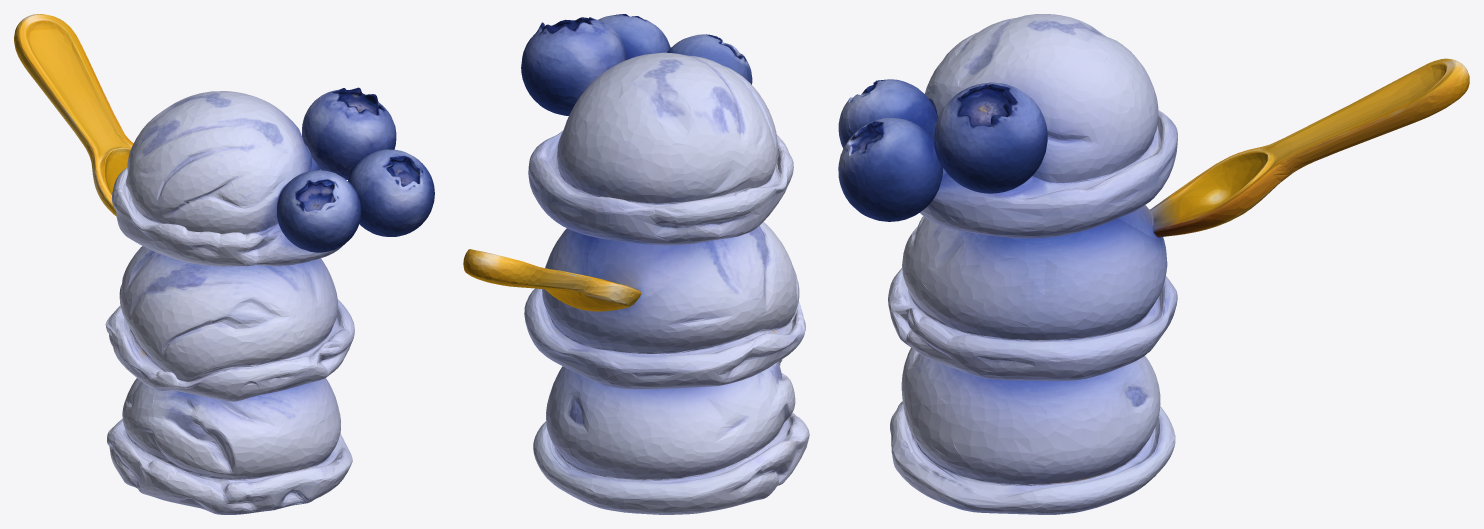
The model's file is Web_IceCream_Blueberry.obj.
The picture shows the model from 3 angles, left to right: view 1: azimuth 30°, elevation 25°; view 2: azimuth 150°, elevation 25°; view 3: azimuth 270°, elevation 25°; orthographic projection. The views are drawn at different scales.
Parts seen in each view (by area): view 1: Web_IceCream_Blueberry; view 2: Web_IceCream_Blueberry; view 3: Web_IceCream_Blueberry.
Boxes of the visible parts, box(x1,y1,x2,y2) form: Web_IceCream_Blueberry: box(14, 14, 434, 514); Web_IceCream_Blueberry: box(463, 14, 809, 514); Web_IceCream_Blueberry: box(838, 14, 1469, 514).
Size of the model in its own units: 0.5991 by 0.8487 by 1.11.
Materials: 1 (1 with a texture image).
